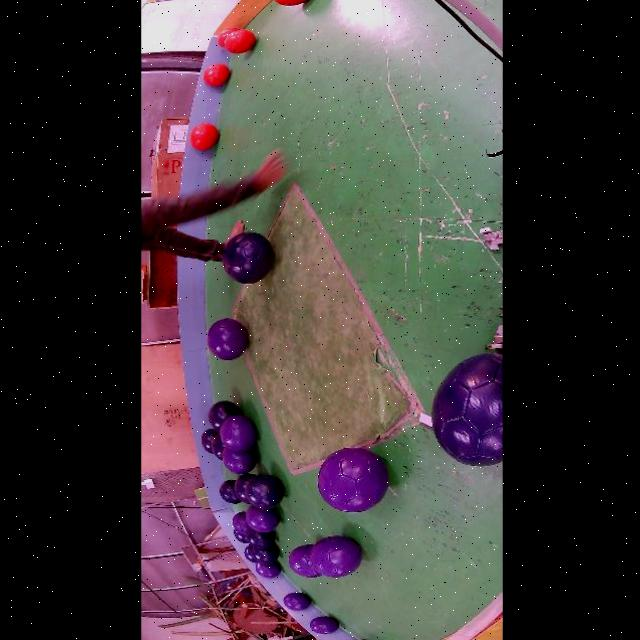B: (432, 354, 503, 466), (222, 232, 273, 285), (245, 474, 284, 510), (207, 400, 241, 433), (233, 473, 254, 505), (245, 529, 274, 549), (251, 545, 279, 564), (218, 479, 239, 503), (201, 428, 217, 454), (211, 434, 223, 461), (244, 545, 256, 564), (233, 530, 247, 544)
P: (318, 447, 388, 512), (310, 536, 362, 578), (206, 318, 247, 360), (220, 415, 256, 452), (288, 545, 320, 578), (221, 447, 256, 474), (245, 506, 279, 532), (310, 617, 338, 634), (283, 593, 310, 610), (232, 512, 249, 536), (255, 563, 280, 579)
R: (223, 29, 255, 54), (189, 124, 218, 150), (202, 63, 229, 86), (217, 28, 238, 47), (274, 0, 307, 5)
